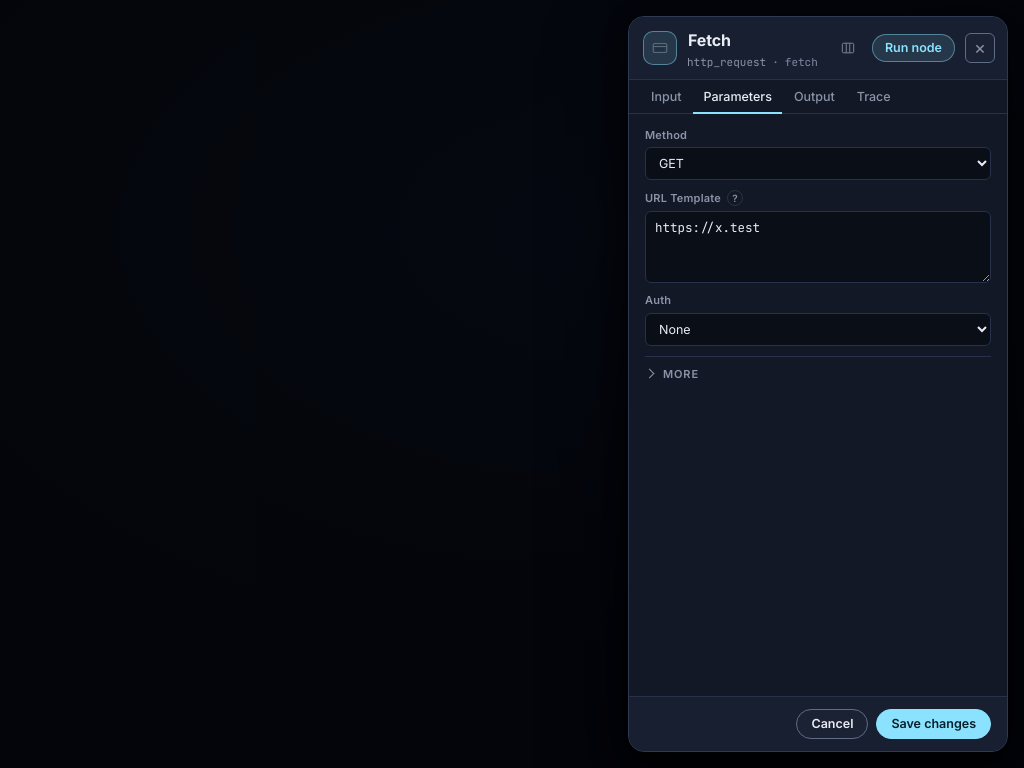
Scenario: HTTP Request: fail on HTTP error status › flags entries that are not status codes
Click the heading "More": (681, 374) [663, 367, 699, 381]
(page scrolled)
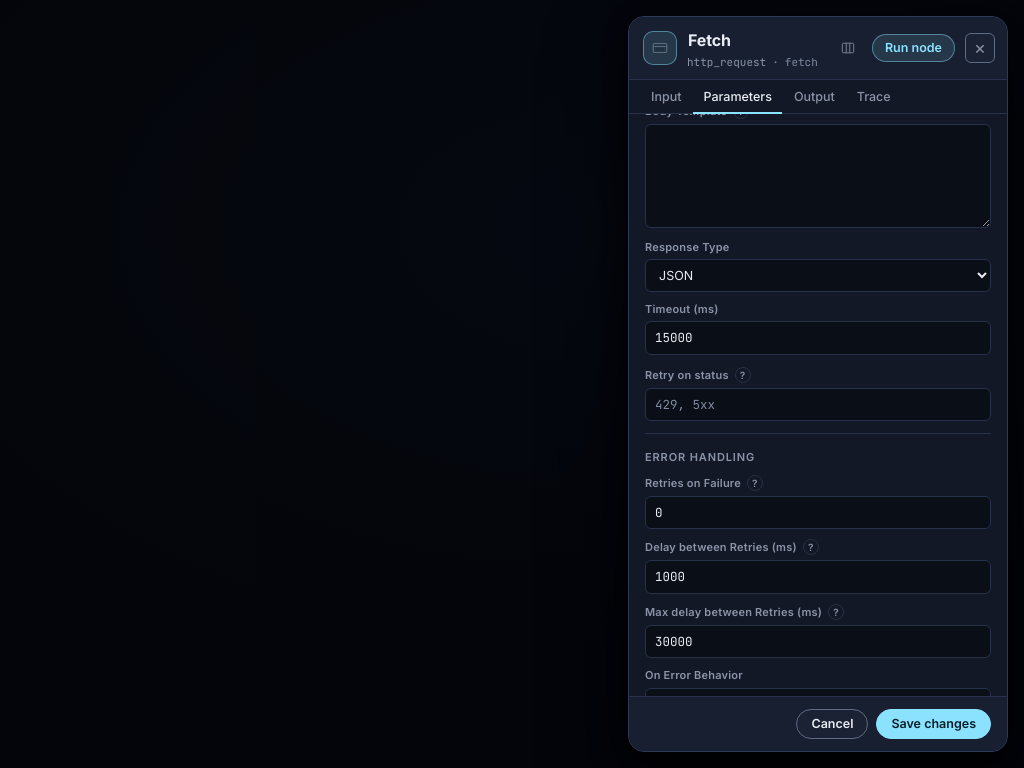
In the field labelled "Retry on status ?": (818, 405) [645, 388, 991, 422], type "429, teapot"
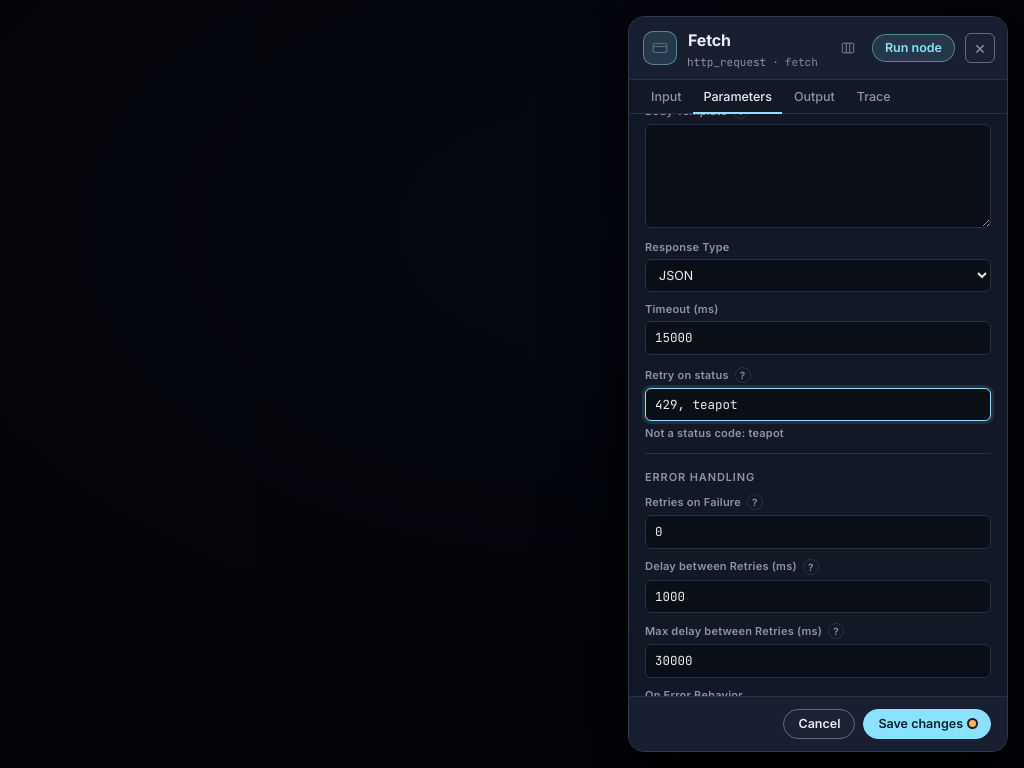
Result: the message reads "Not a status code: teapot" at [645, 426, 784, 440]
